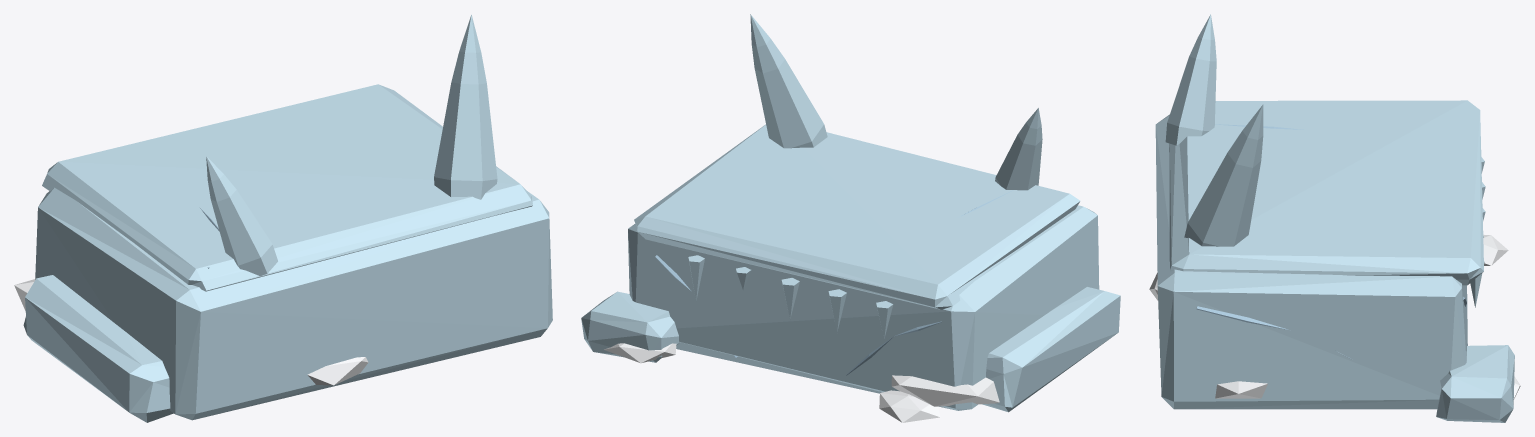
Rendered from Frostbite_Seat.fbx.
3 renders of one model, left to right at view 1: azimuth 30°, elevation 25°; view 2: azimuth 150°, elevation 25°; view 3: azimuth 270°, elevation 25°, orthographic. The views are drawn at different scales.
Visible parts, largest first — view 1: FrostbiteSeat_IceBlock_Ice, FrostbiteSeat_Shards_Ice, FrostbiteSeat_Drift_FurWhite; view 2: FrostbiteSeat_IceBlock_Ice, FrostbiteSeat_Shards_Ice, FrostbiteSeat_Drift_FurWhite, FrostbiteSeat_Cracks_IceDark; view 3: FrostbiteSeat_IceBlock_Ice, FrostbiteSeat_Shards_Ice, FrostbiteSeat_Drift_FurWhite, FrostbiteSeat_Cracks_IceDark.
Boxes of the visible parts, x1,y1,x2,y2 form: FrostbiteSeat_IceBlock_Ice: (23,84,552,422); FrostbiteSeat_Shards_Ice: (206,14,497,276); FrostbiteSeat_Drift_FurWhite: (14,279,368,385); FrostbiteSeat_IceBlock_Ice: (581,124,1120,412); FrostbiteSeat_Shards_Ice: (688,14,1042,339); FrostbiteSeat_Drift_FurWhite: (604,343,999,422); FrostbiteSeat_Cracks_IceDark: (655,190,1013,375); FrostbiteSeat_IceBlock_Ice: (1155,100,1514,422); FrostbiteSeat_Shards_Ice: (1165,14,1485,307); FrostbiteSeat_Drift_FurWhite: (1149,234,1520,399); FrostbiteSeat_Cracks_IceDark: (1196,124,1466,358).
Size of the model in its own units: 5.46 by 3.51 by 4.
